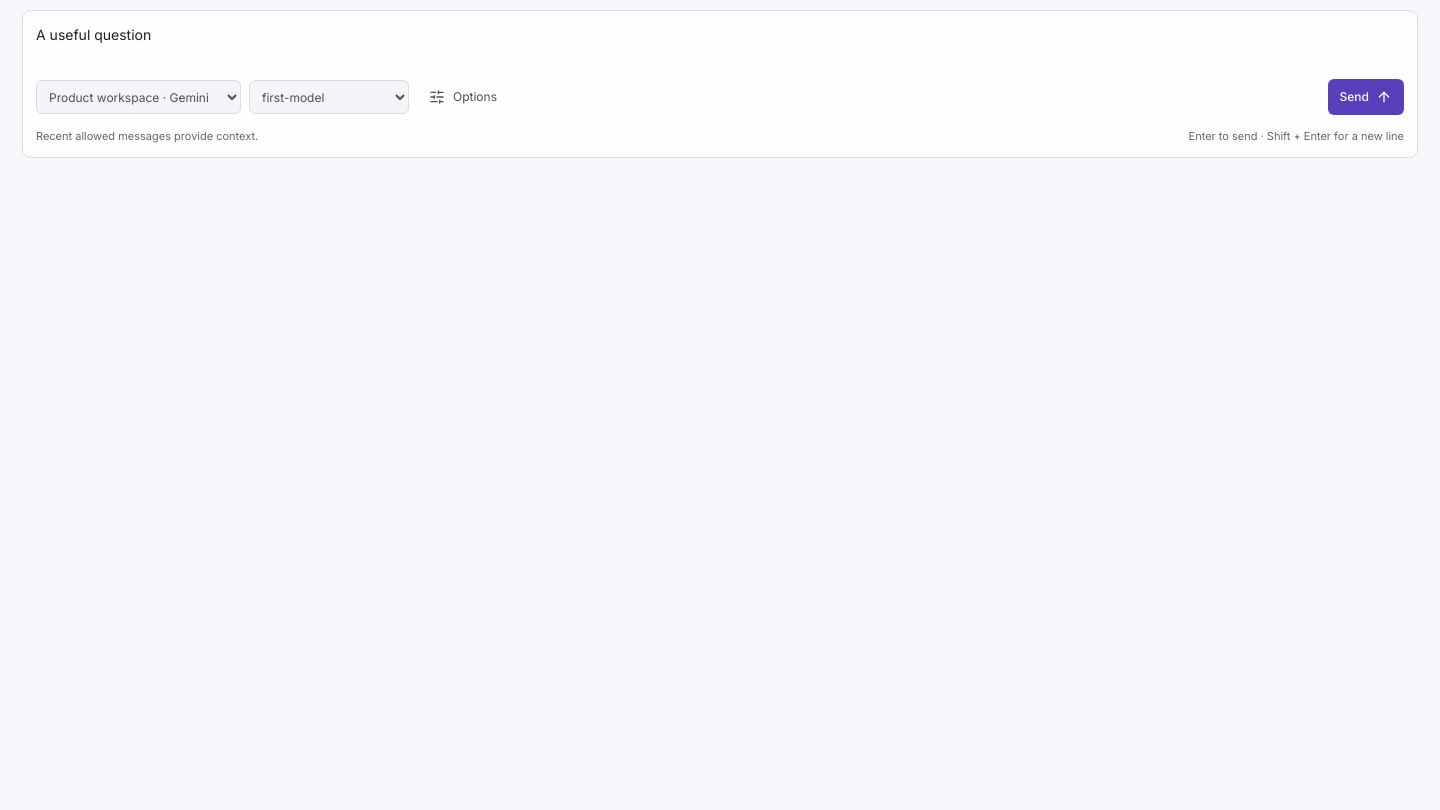
opens hidden settings and focuses an invalid temperature value of 2.1
Check: the number field labelled "Temperature" is not shown
Click the button with aria-label "Send message". click: coordinates (1366, 97)
box: [1328,79,1404,115]
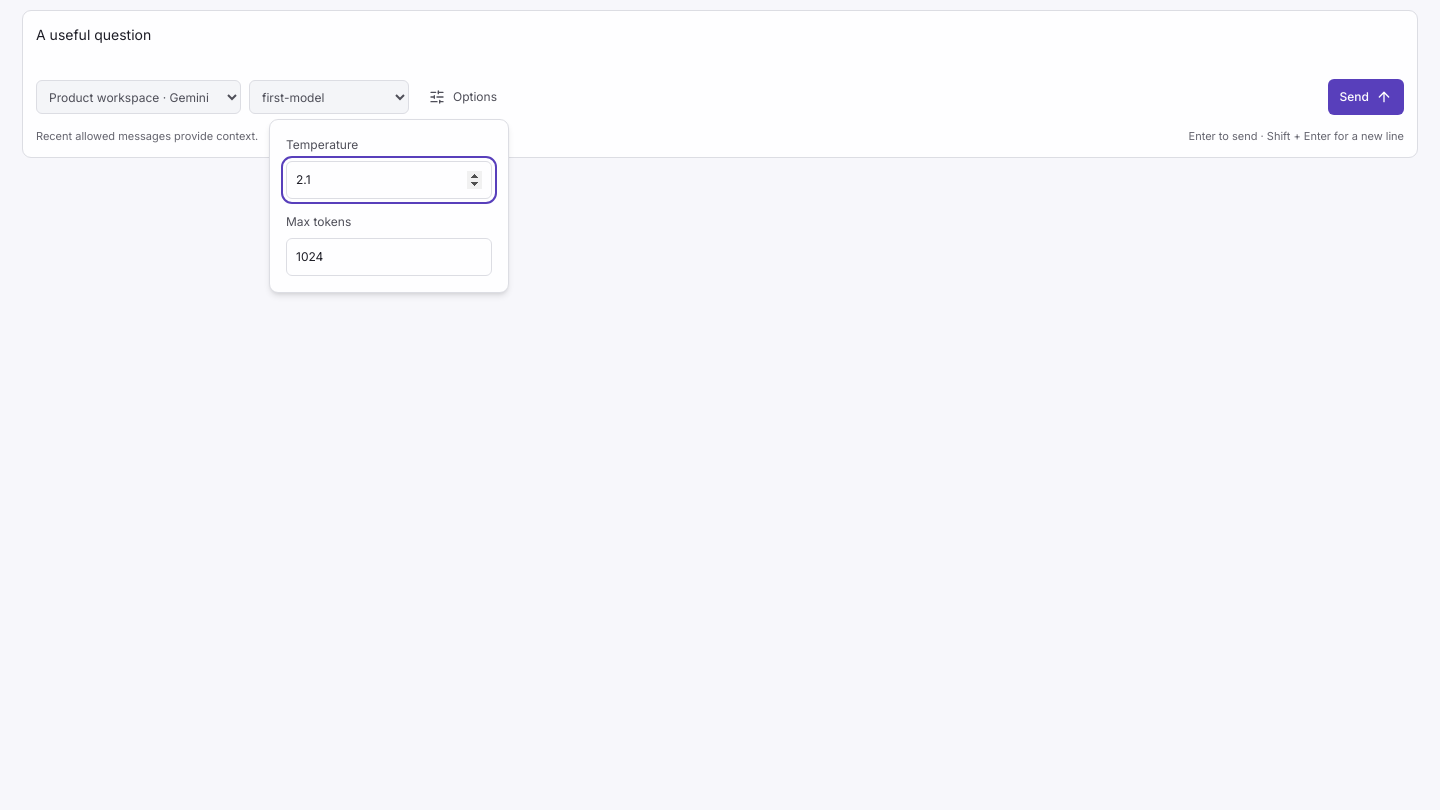
Check: the number field labelled "Temperature" holds "2.1", box [286,161,492,199]
